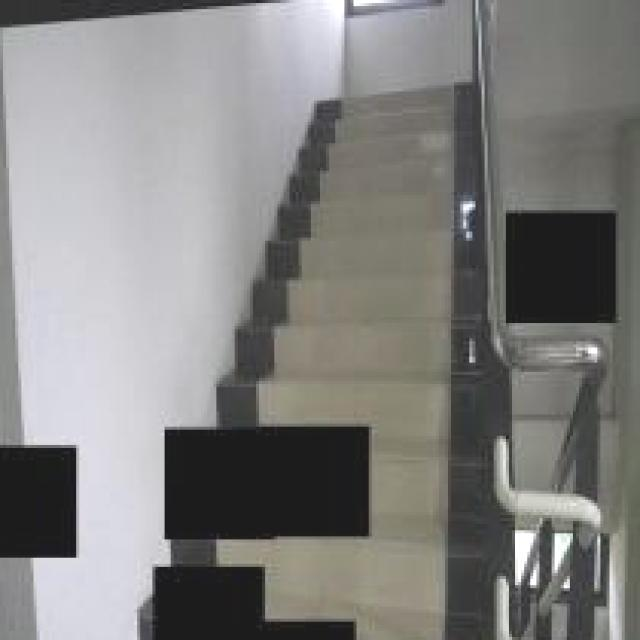upstair: (297, 68, 474, 388)
